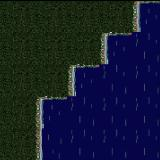Interaction: (24, 84, 48, 160), (94, 19, 114, 52), (80, 52, 116, 70), (48, 84, 80, 104), (115, 19, 147, 38), (64, 52, 80, 84), (128, 0, 147, 18)
Slow: (43, 99, 160, 160), (76, 66, 160, 100), (108, 35, 160, 67), (140, 3, 160, 35)
